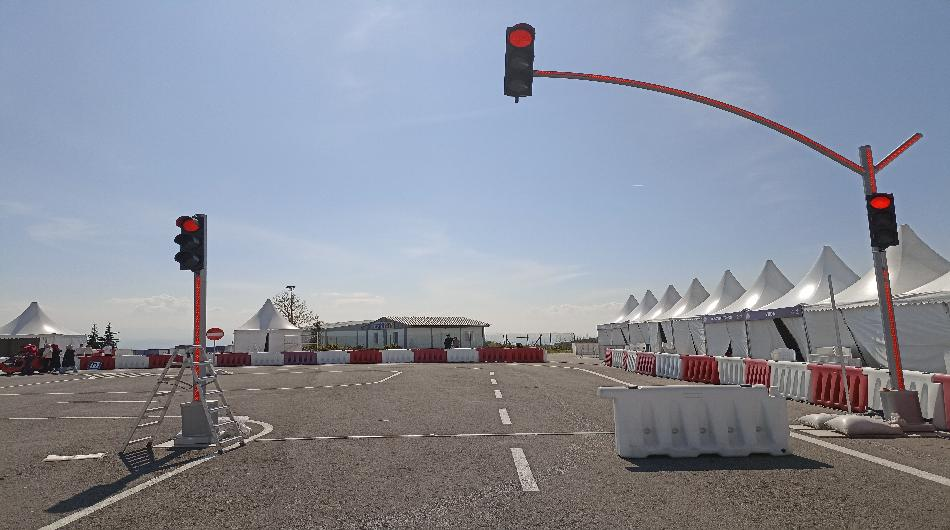red_light: (503, 23, 538, 107), (862, 187, 902, 253), (175, 210, 211, 272)
